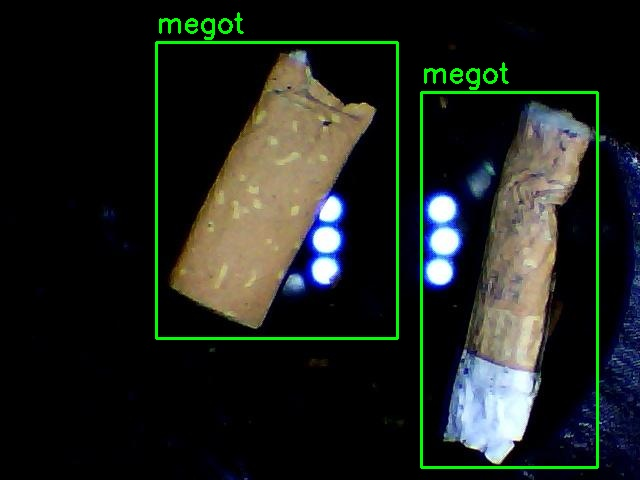megot: (156, 42, 397, 338), (421, 92, 597, 467)
